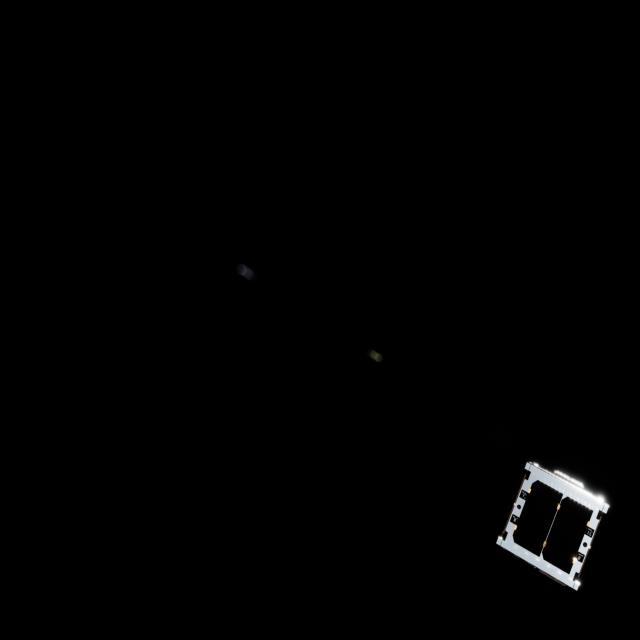satellite: (494, 457, 617, 592)
